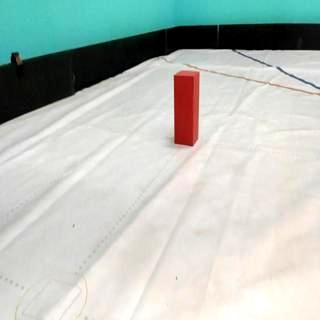redbox: (173, 69, 200, 147)
